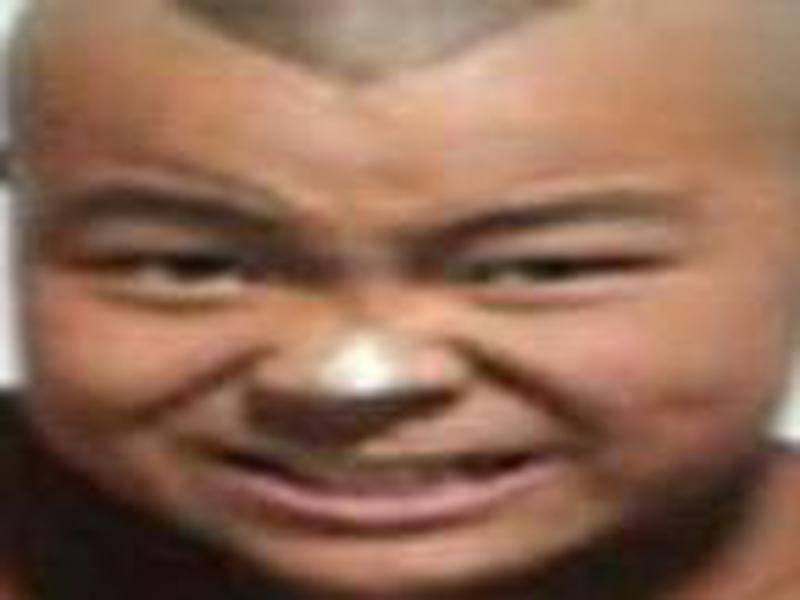without_mask: (17, 48, 765, 580)
